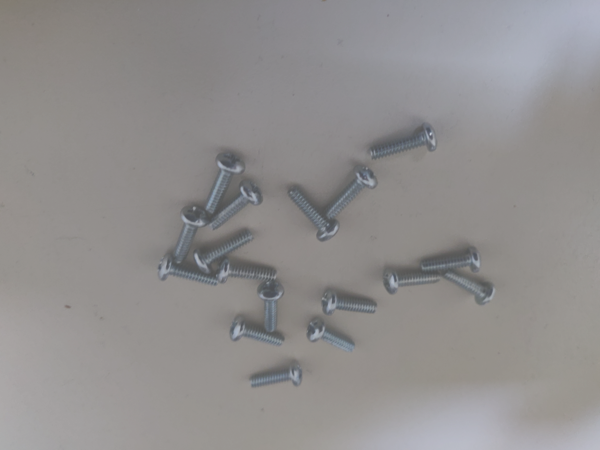shortscrew: (288, 185, 342, 243), (326, 166, 378, 220), (209, 180, 264, 231), (194, 229, 254, 274), (203, 153, 246, 214), (370, 123, 438, 161), (174, 206, 209, 265), (443, 270, 497, 307), (157, 254, 217, 287), (230, 316, 286, 348), (307, 318, 356, 353), (383, 268, 442, 296), (421, 247, 482, 274), (217, 258, 278, 284), (249, 362, 303, 389), (257, 281, 284, 333), (322, 291, 377, 316)
